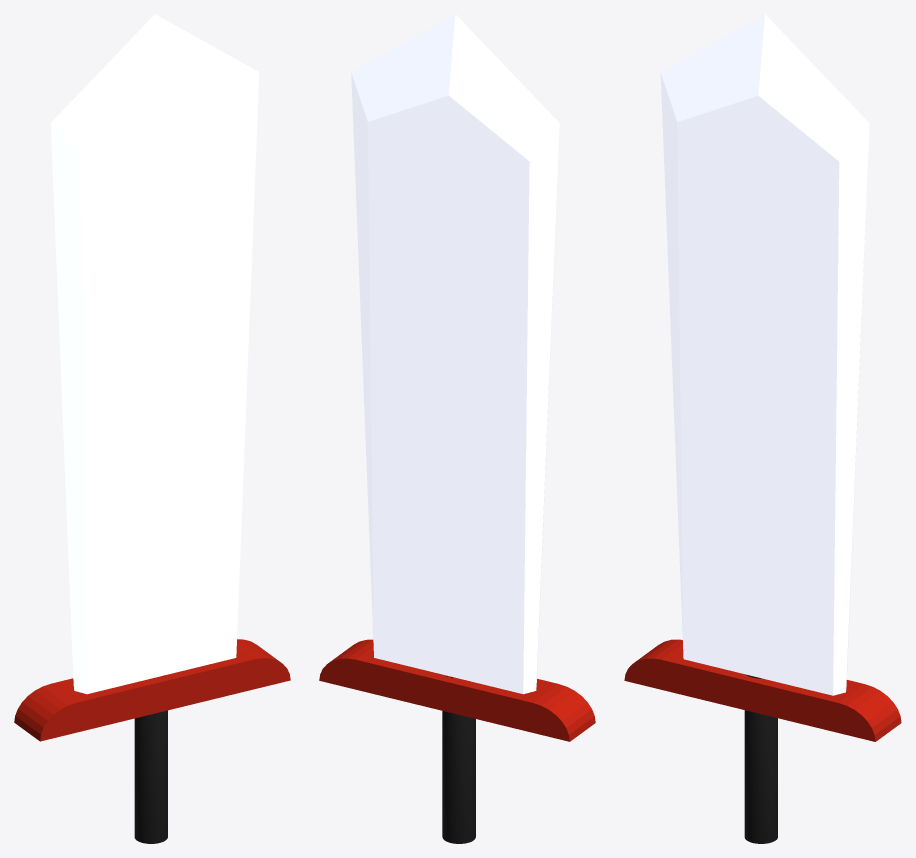
File: SigXRBlade.fbx
The picture shows the model from 3 angles, left to right: view 1: azimuth 30°, elevation 25°; view 2: azimuth 150°, elevation 25°; view 3: azimuth 330°, elevation 25°; orthographic projection.
Parts seen in each view (by area): view 1: Cube, Cube.001, Cylinder; view 2: Cube, Cube.001, Cylinder; view 3: Cube, Cube.001, Cylinder.
Part boxes in pixels (x1,y1,x2,y2): Cube: (50, 14, 259, 694); Cube.001: (14, 639, 290, 741); Cylinder: (134, 676, 167, 843); Cube: (351, 14, 559, 694); Cube.001: (319, 639, 595, 741); Cylinder: (442, 675, 475, 843); Cube: (660, 14, 869, 695); Cube.001: (624, 639, 901, 741); Cylinder: (744, 674, 777, 843).
Size of the model in its own units: 227 by 711 by 40.59.
